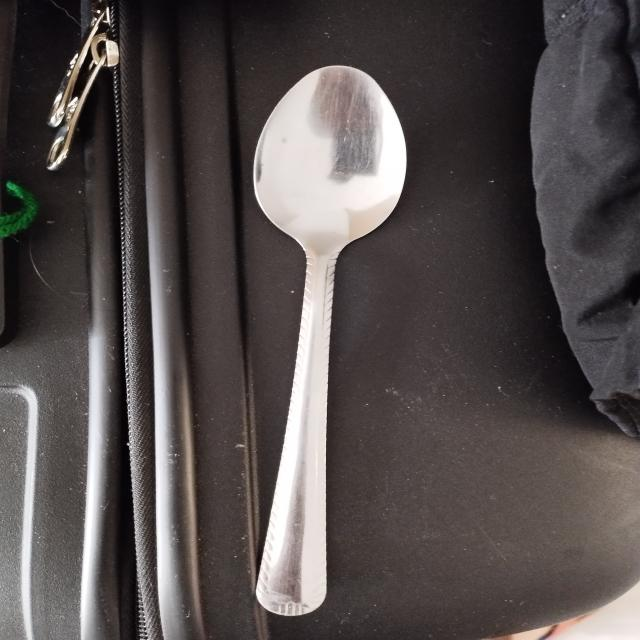Spoon: (228, 44, 421, 640)
